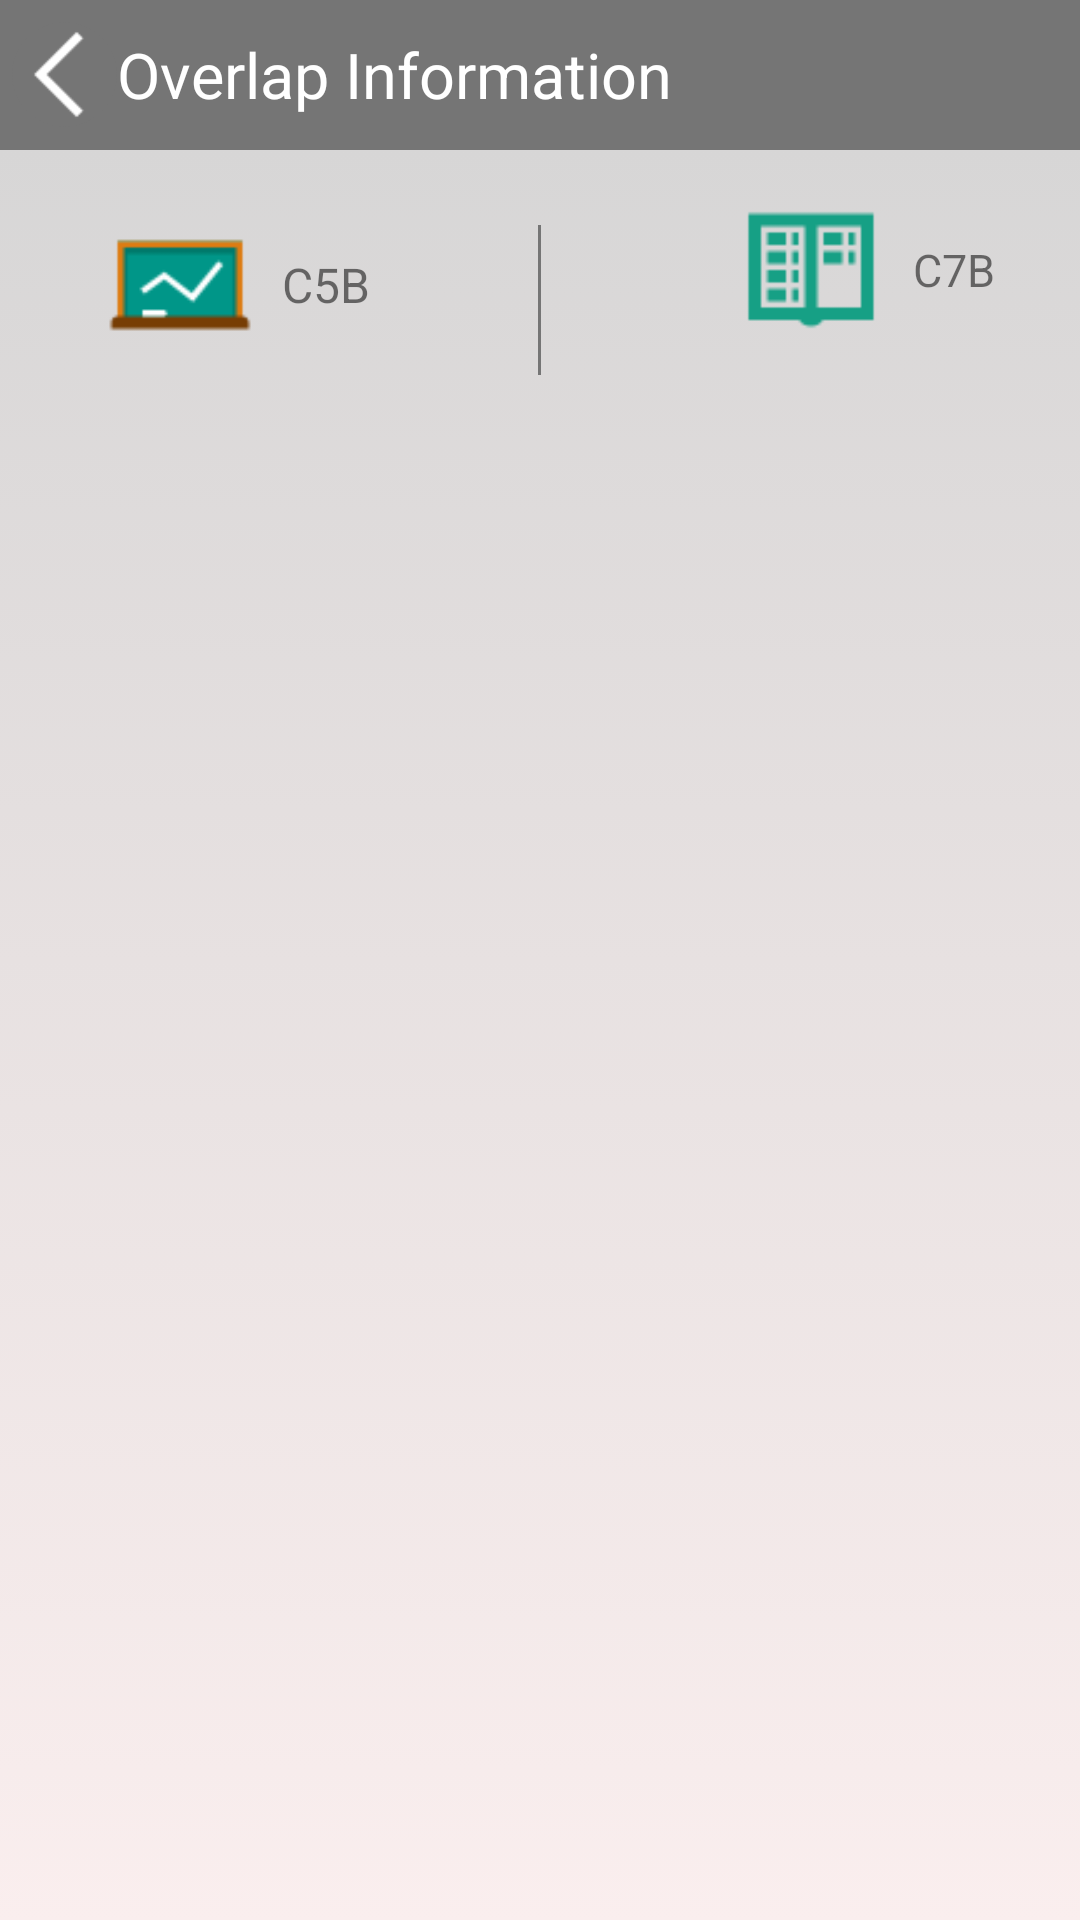

Where to tap for icons on this 1080px x 1920px app screen, as (x=x, y=y):
back: (x=58, y=74)
myclass: (x=180, y=285)
